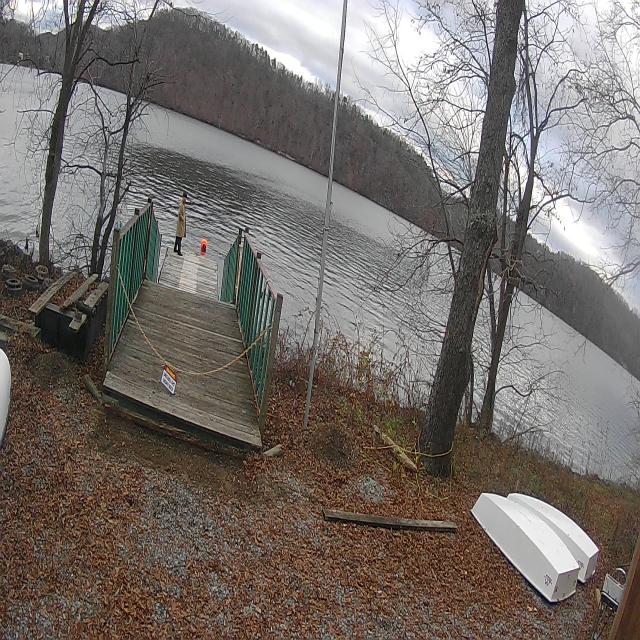Buoy: (198, 234, 209, 258)
